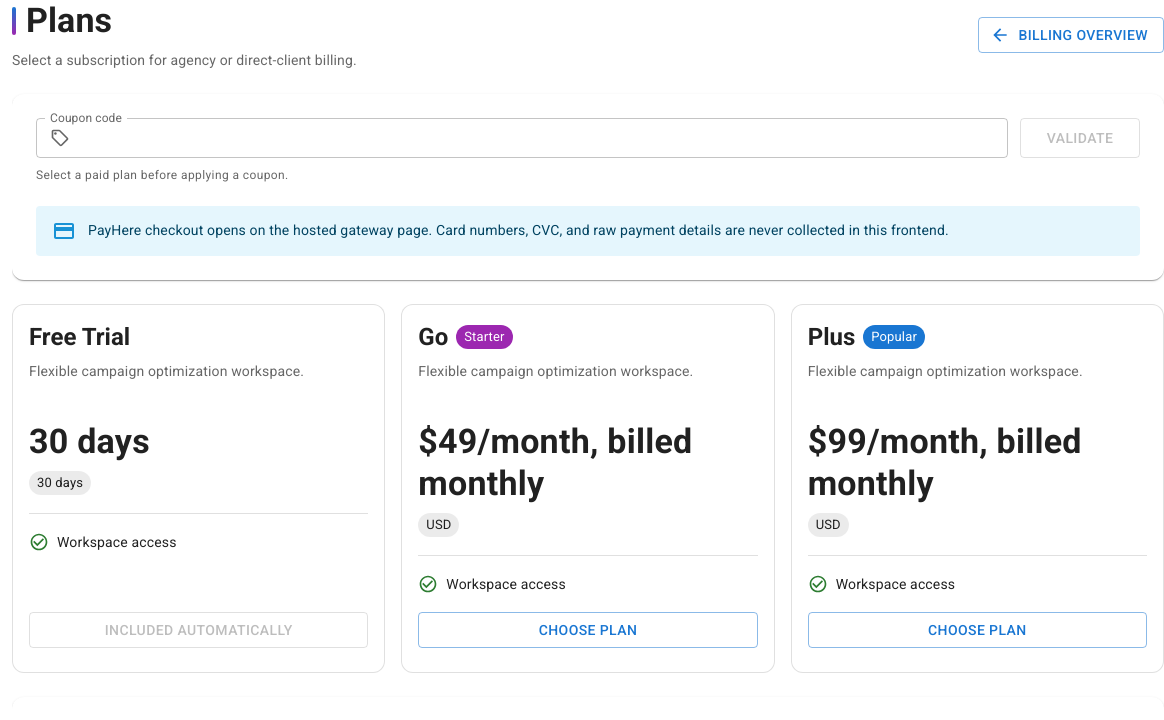
Test case: PlanSelectionPage › shows a visible, accessible selected state on the whole plan card
The width and height of the screenshot is (1164, 720).
Click the 1st button "Choose Plan" at point(588, 630), box [418,612,758,648]
(page scrolled)
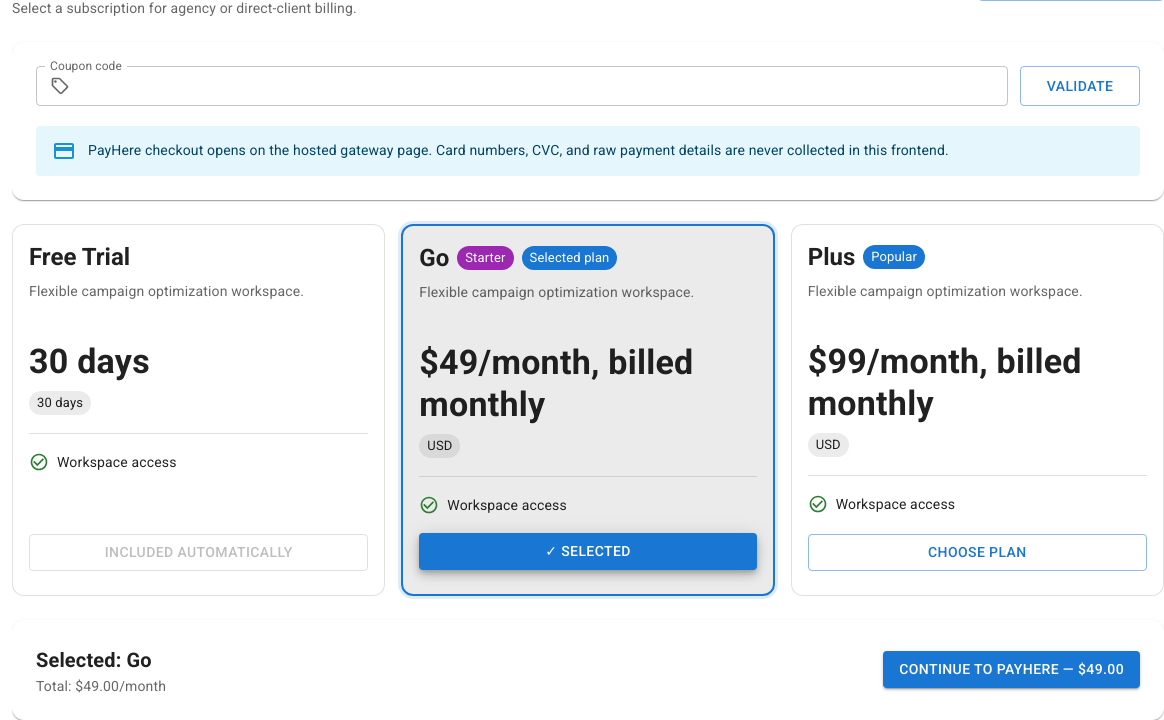
Expected: the text "Selected plan" is shown, [530,250,609,265]
Expected: the heading "Selected: Go" is shown, [36,644,166,676]
Expected: the text "Total: $49.00/month" is shown, [36,676,166,696]
